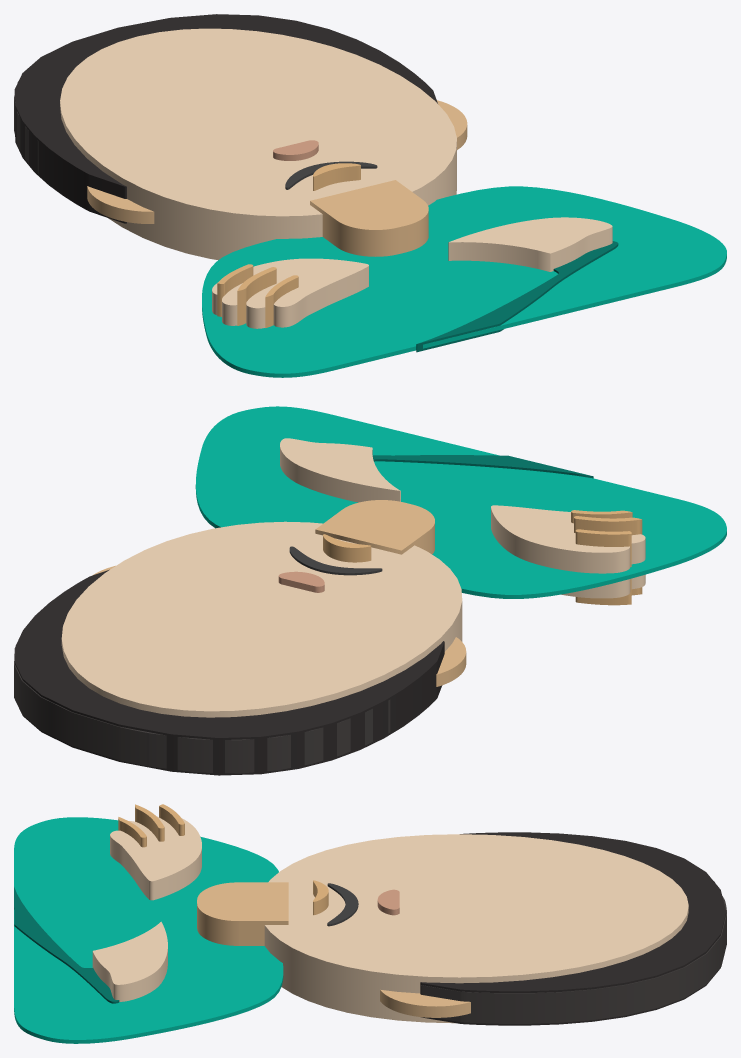
File: emoji_u1f64e_1f3fb_200d_2642.glb
3 views of the same model, one above another, from view 1: azimuth 30°, elevation 25°; view 2: azimuth 150°, elevation 25°; view 3: azimuth 270°, elevation 25° (orthographic). The views are drawn at different scales.
Visible parts, largest first — view 1: emoji_u1f64e_1f3fb_200d_2642; view 2: emoji_u1f64e_1f3fb_200d_2642; view 3: emoji_u1f64e_1f3fb_200d_2642.
Part boxes in pixels (x1,y1,x2,y2): emoji_u1f64e_1f3fb_200d_2642: [14, 14, 726, 377]; emoji_u1f64e_1f3fb_200d_2642: [14, 406, 726, 775]; emoji_u1f64e_1f3fb_200d_2642: [14, 804, 726, 1043].
Size of the model in its own units: 0.025 by 0.0038 by 0.0339.
